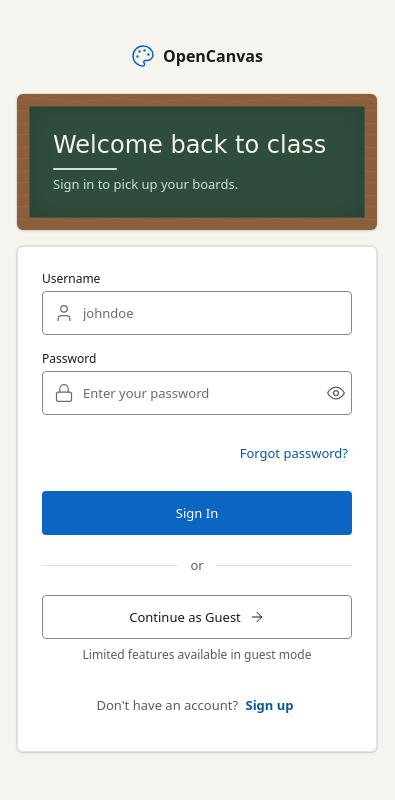
Test case: LoginPage › a failed login shows the returned error in an alert
In the field labelled "Username": [197, 313] box [42,291,352,335], type "ana"
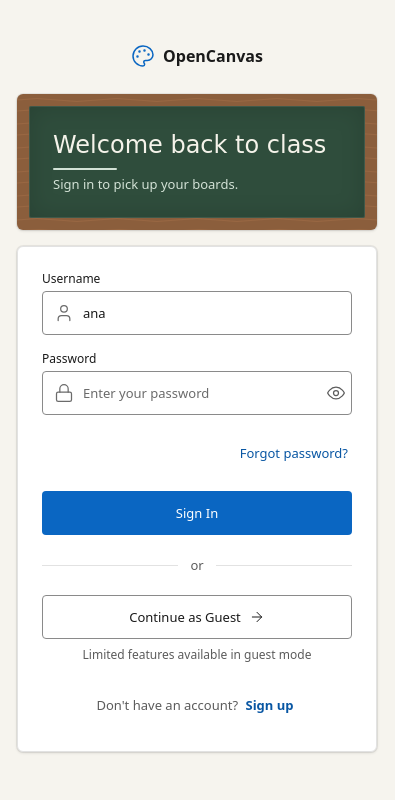
In the password field labelled "Password": [197, 393] box [42,371,352,415], type "secret"
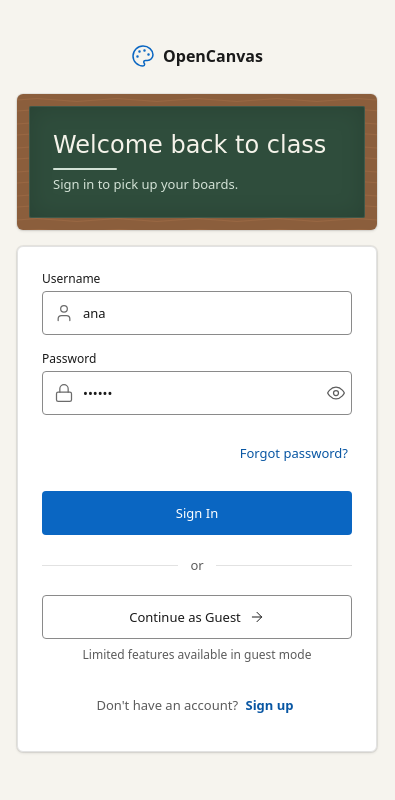
Click the button "Sign In": [197, 513] box [42,491,352,535]
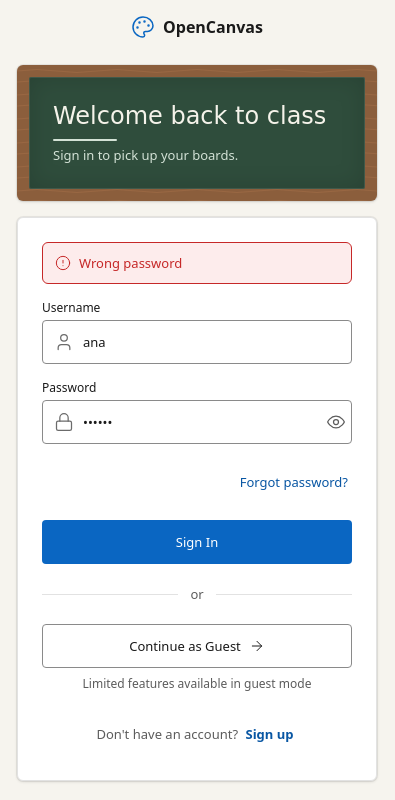
Result: the message reads "Wrong password" at [79,254,182,272]
